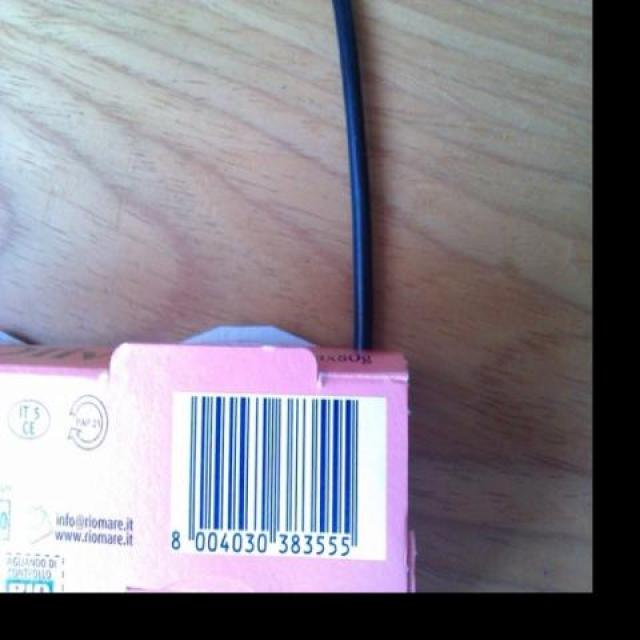Barcode: (170, 391, 385, 558)
